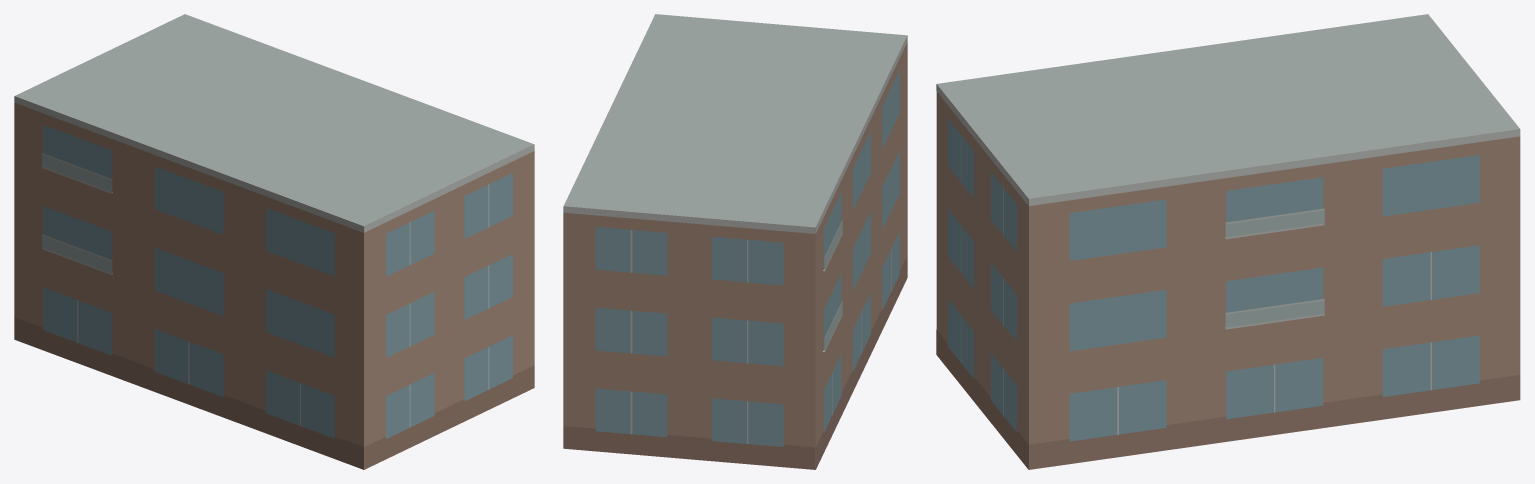
The model's file is survey-upis-32721284.glb.
3 renders of one model, left to right at view 1: azimuth 30°, elevation 25°; view 2: azimuth 150°, elevation 25°; view 3: azimuth 270°, elevation 25°, orthographic. The views are drawn at different scales.
Parts seen in each view (by area): view 1: survey-upis-32721284.tmp; view 2: survey-upis-32721284.tmp; view 3: survey-upis-32721284.tmp.
Boxes of the visible parts, x1,y1,x2,y2 form: survey-upis-32721284.tmp: [14, 14, 534, 469]; survey-upis-32721284.tmp: [563, 14, 907, 469]; survey-upis-32721284.tmp: [936, 14, 1520, 469].
Size of the model in its own units: 13.41 by 9.15 by 17.88.
